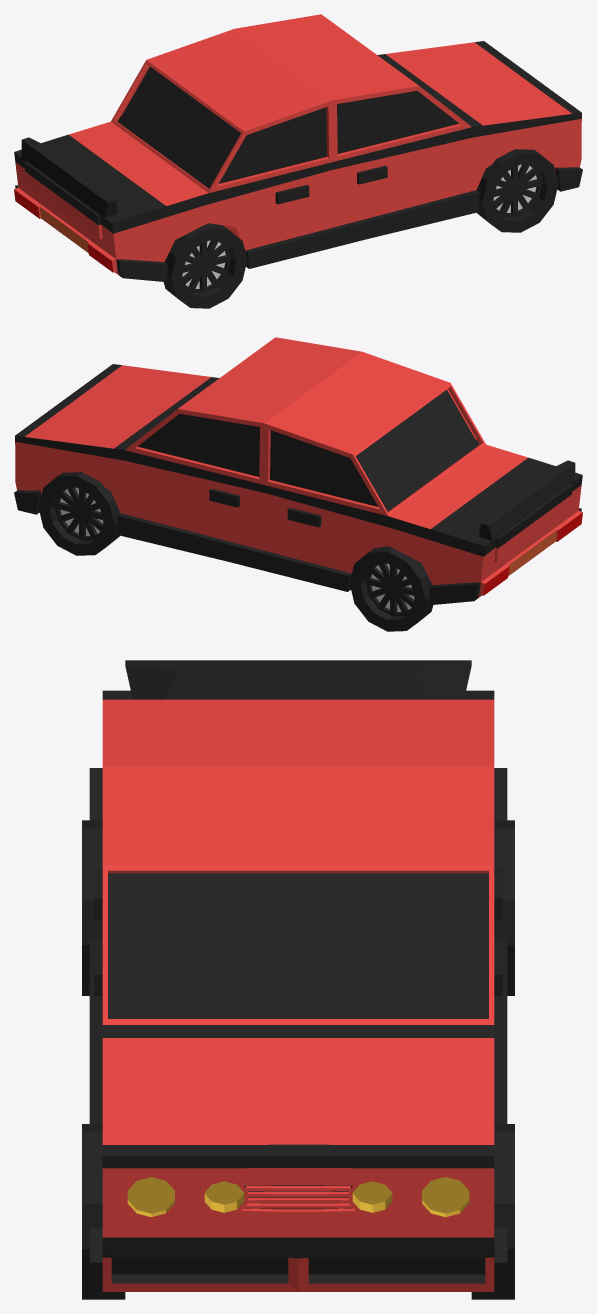
The model's file is Toy car.fbx.
The picture shows the model from 3 angles, top to bottom: view 1: azimuth 30°, elevation 25°; view 2: azimuth 150°, elevation 25°; view 3: azimuth 270°, elevation 25°; orthographic projection. The views are drawn at different scales.
Visible parts, largest first — view 1: 2nd sports car; view 2: 2nd sports car; view 3: 2nd sports car.
Part boxes in pixels (bbox=[...]): 2nd sports car: bbox=[14, 14, 582, 308]; 2nd sports car: bbox=[14, 337, 582, 631]; 2nd sports car: bbox=[82, 660, 514, 1299].
Bounding box in the file's own units: 13.83 × 12.21 × 34.83.
